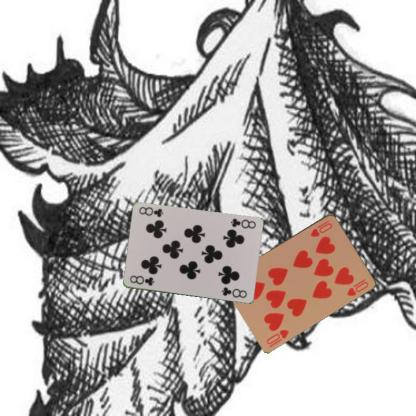10h: (308, 217, 333, 240), (264, 326, 291, 346)
8c: (127, 273, 156, 287), (228, 216, 257, 230)
